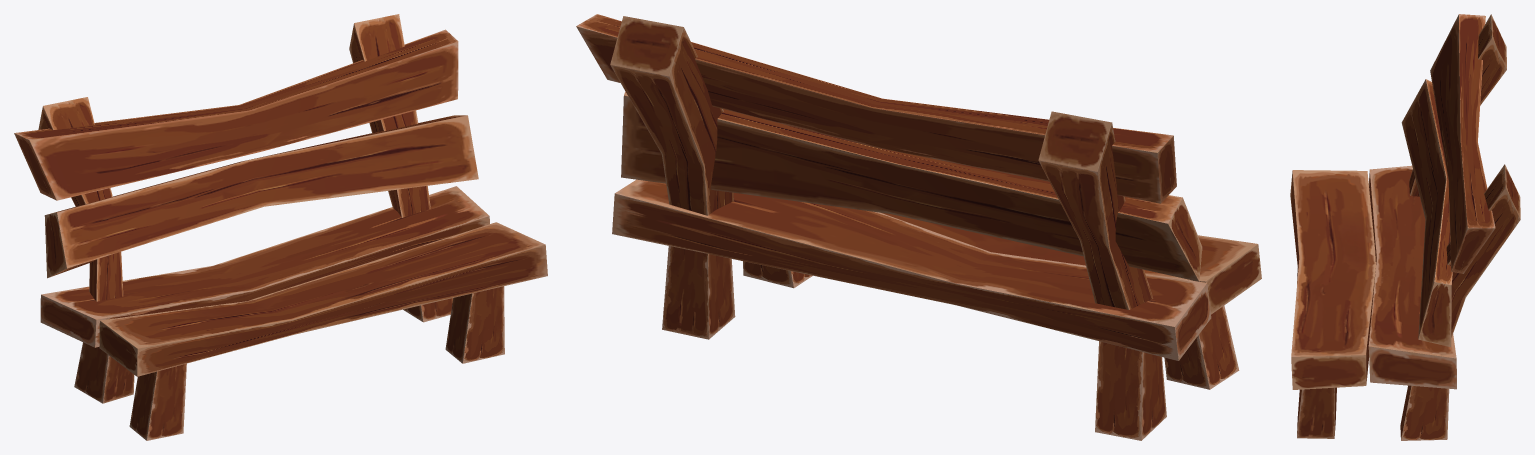
Rendered from banc.glb.
The picture shows the model from 3 angles, left to right: view 1: azimuth 30°, elevation 25°; view 2: azimuth 150°, elevation 25°; view 3: azimuth 270°, elevation 25°; orthographic projection. The views are drawn at different scales.
Parts seen in each view (by area): view 1: SM_PROP_bench_02; view 2: SM_PROP_bench_02; view 3: SM_PROP_bench_02.
Part boxes in pixels (x1,y1,x2,y2): SM_PROP_bench_02: (14, 14, 547, 440); SM_PROP_bench_02: (576, 14, 1261, 440); SM_PROP_bench_02: (1290, 14, 1520, 440).
Size of the model in its own units: 1.89 by 1.1 by 0.8965.
1 material, 1 textured.
